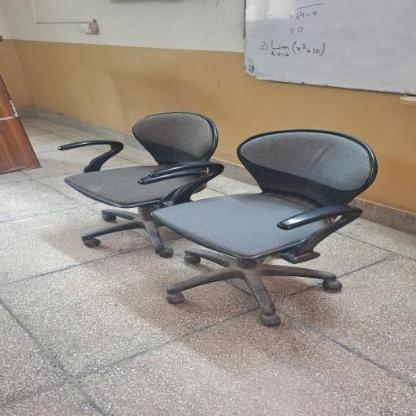chair: (149, 126, 402, 331), (53, 107, 227, 256)
